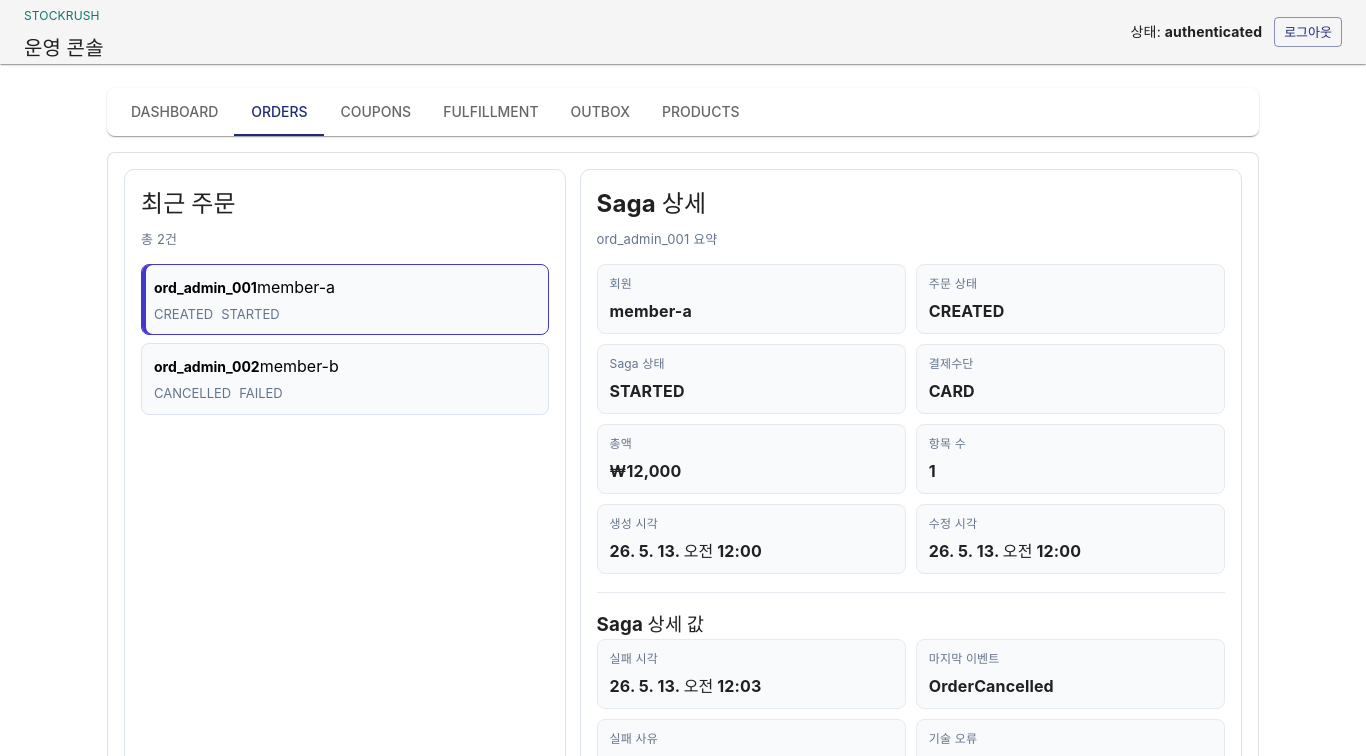
Test: admin app operations › shows dashboard error when read model request fails
Step 1. Click the tab "Dashboard" → click(175, 112), box left=115, top=88, right=234, bottom=136
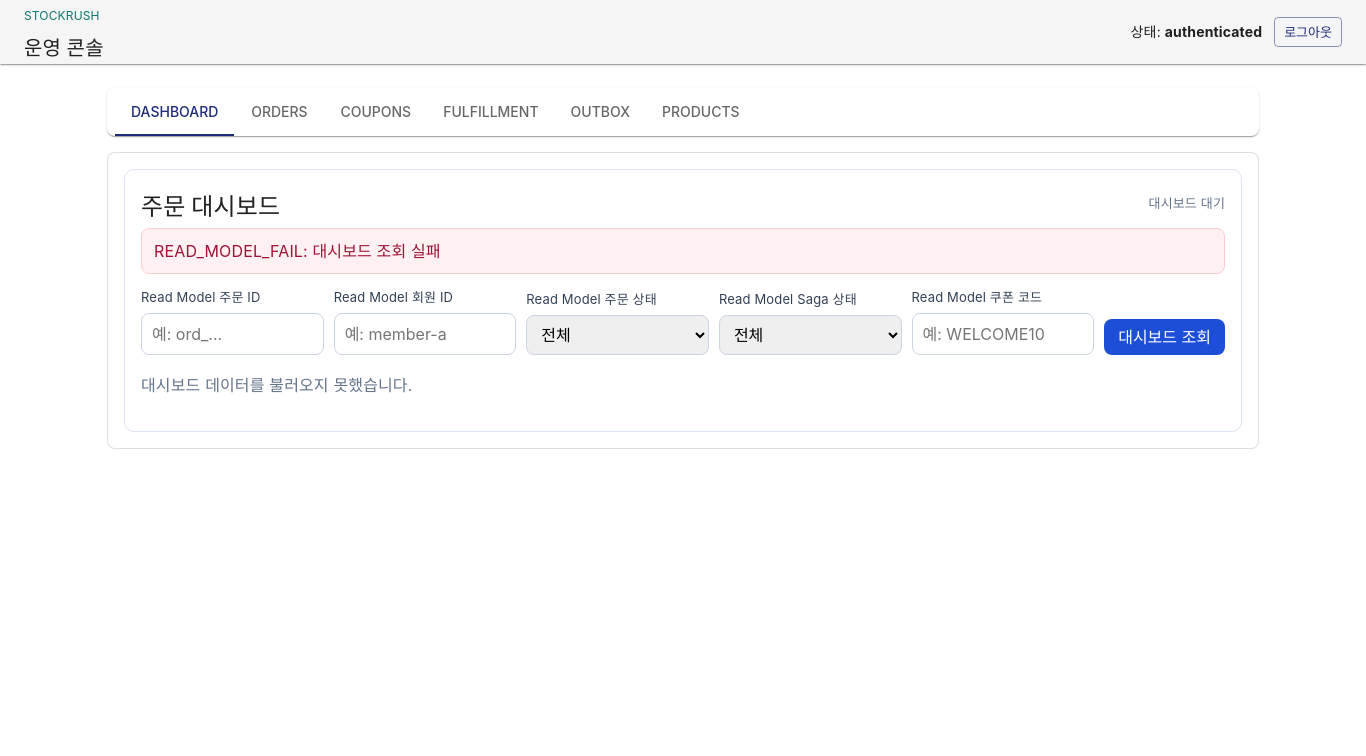
Expected: the message reads "READ_MODEL_FAIL: 대시보드 조회 실패", left=154, top=240, right=441, bottom=260
Expected: the text "대시보드 데이터를 불러오지 못했습니다." is shown, left=141, top=375, right=412, bottom=395
